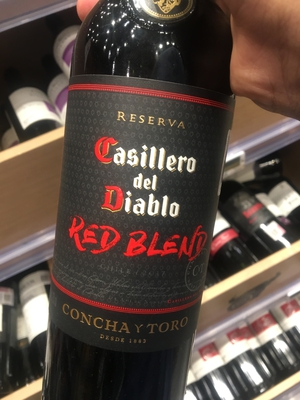casillero del diablo red blend: (37, 19, 241, 400)
